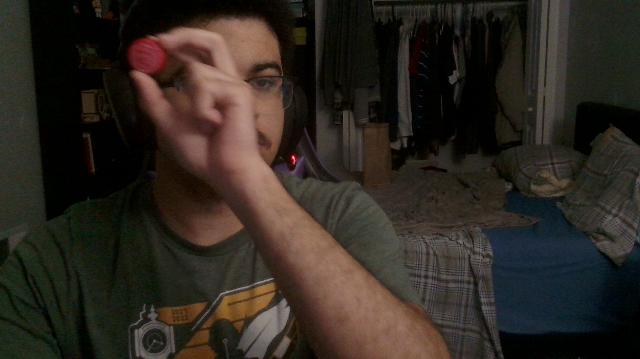cap: (130, 38, 167, 74)
